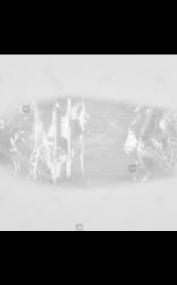Plastic: (0, 97, 176, 183)
